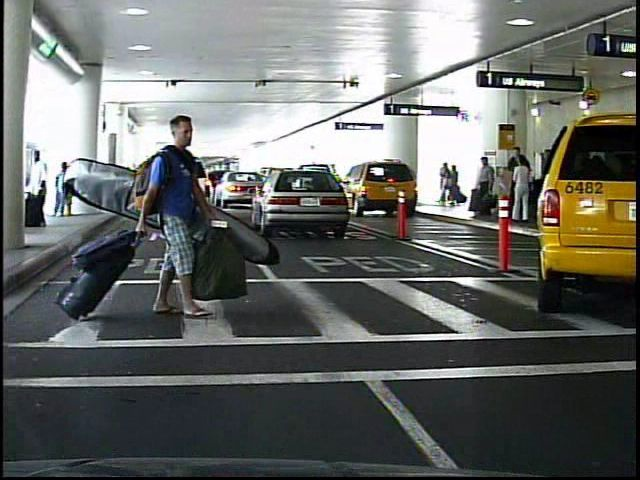person: (139, 107, 219, 341), (23, 151, 49, 232), (505, 143, 524, 217), (474, 157, 496, 220), (512, 155, 531, 224), (437, 161, 448, 208), (448, 163, 459, 207)
